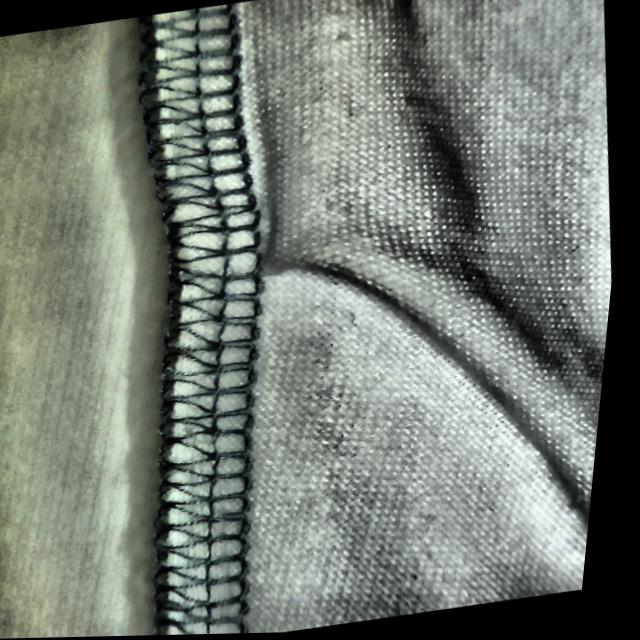seam: (126, 141, 397, 331)
